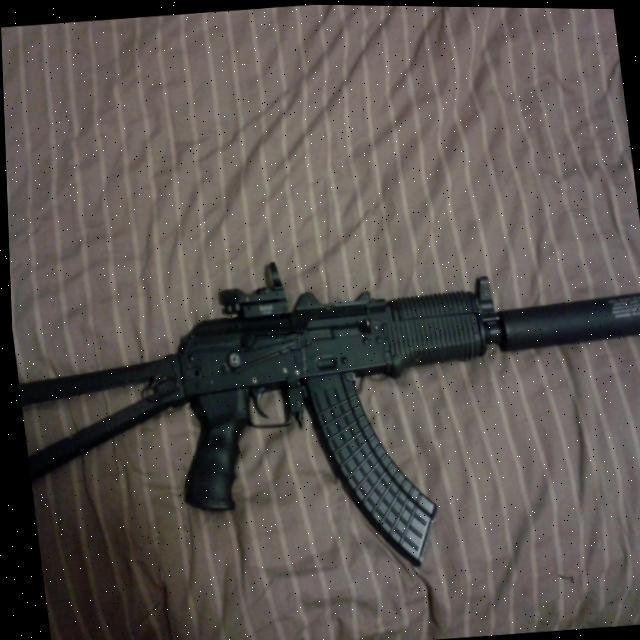firearm: (6, 221, 640, 601)
